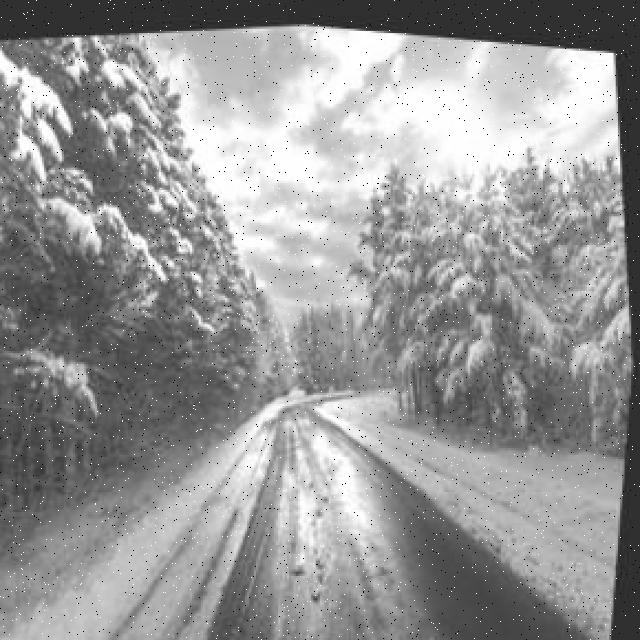ice-road: (123, 394, 620, 640)
